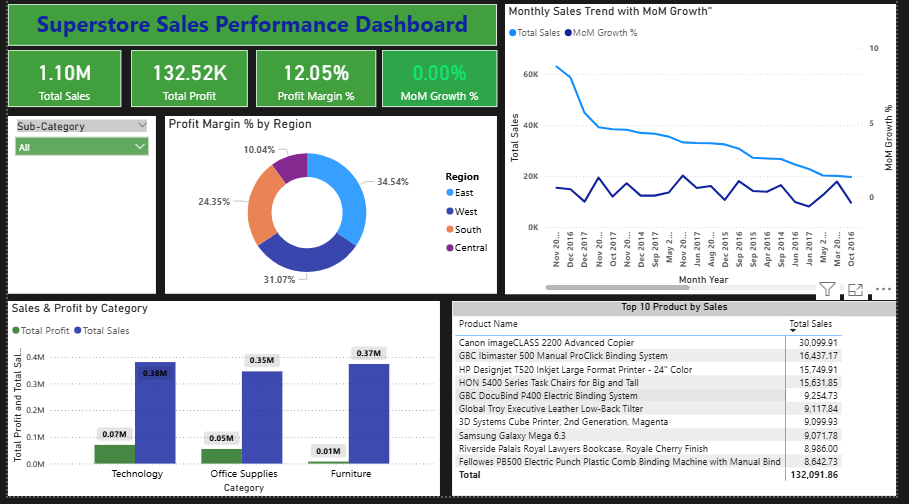

What the dashboard file says about the page in this screenshot:
{"tool":"powerbi","page":{"name":"Page 1","canvas":[1280,720],"ordinal":0},"visuals":[{"type":"textbox","box":[0,11.5,704.2,60.5],"z":0},{"type":"card","fields":{"Values":["Date.Total Sales"]},"box":[0,77.8,162.7,82.1],"z":1000},{"type":"card","fields":{"Values":["Date.Total Profit"]},"box":[177.1,77.8,168.5,82.1],"z":2000},{"type":"card","fields":{"Values":["Date.MoM Growth %"]},"box":[538.6,77.8,165.6,82.1],"z":3000},{"type":"card","fields":{"Values":["Date.Profit Margin %"]},"box":[357.1,77.8,172.8,82.1],"z":4000},{"type":"slicer","fields":{"Values":["Superstore_Cleaned.Sub-Category"]},"box":[0,172.8,213.1,256.3],"z":5000},{"type":"clusteredColumnChart","title":"Sales & Profit by Category","fields":{"Y":["Date.Total Profit","Date.Total Sales"],"Category":["Superstore_Cleaned.Category"]},"box":[0,439.2,622.1,280.8],"z":6000},{"type":"lineChart","title":"Monthly Sales Trend with MoM Growth\"","fields":{"Y":["Date.Total Sales"],"Y2":["Date.MoM Growth %"],"Category":["Date.Month Year"]},"box":[715.7,11.5,564.5,417.6],"z":7000},{"type":"donutChart","title":"Profit Margin % by Region","fields":{"Category":["Superstore_Cleaned.Region"],"Y":["Date.Profit Margin %"]},"box":[226.1,172.8,478.1,256.3],"z":8000},{"type":"pivotTable","title":"Top 10 Product by Sales","fields":{"Values":["Date.Total Sales"],"Rows":["Superstore_Cleaned.Product Name"]},"box":[639.4,439.2,640.8,280.8],"z":9000}]}

Visuals, with their boxes in screenshot pixels (x1, y1, x2, y2), scaled from the page's 1280x720 canvas onto the 909x504 screenshot:
textbox: [left=0, top=8, right=500, bottom=50]
card - Date.Total Sales: [left=0, top=54, right=116, bottom=112]
card - Date.Total Profit: [left=126, top=54, right=245, bottom=112]
card - Date.MoM Growth %: [left=382, top=54, right=500, bottom=112]
card - Date.Profit Margin %: [left=254, top=54, right=376, bottom=112]
slicer - Superstore_Cleaned.Sub-Category: [left=0, top=121, right=151, bottom=300]
"Sales & Profit by Category" clusteredColumnChart: [left=0, top=307, right=442, bottom=503]
"Monthly Sales Trend with MoM Growth"" lineChart: [left=508, top=8, right=908, bottom=300]
"Profit Margin % by Region" donutChart: [left=161, top=121, right=500, bottom=300]
"Top 10 Product by Sales" pivotTable: [left=454, top=307, right=908, bottom=503]
